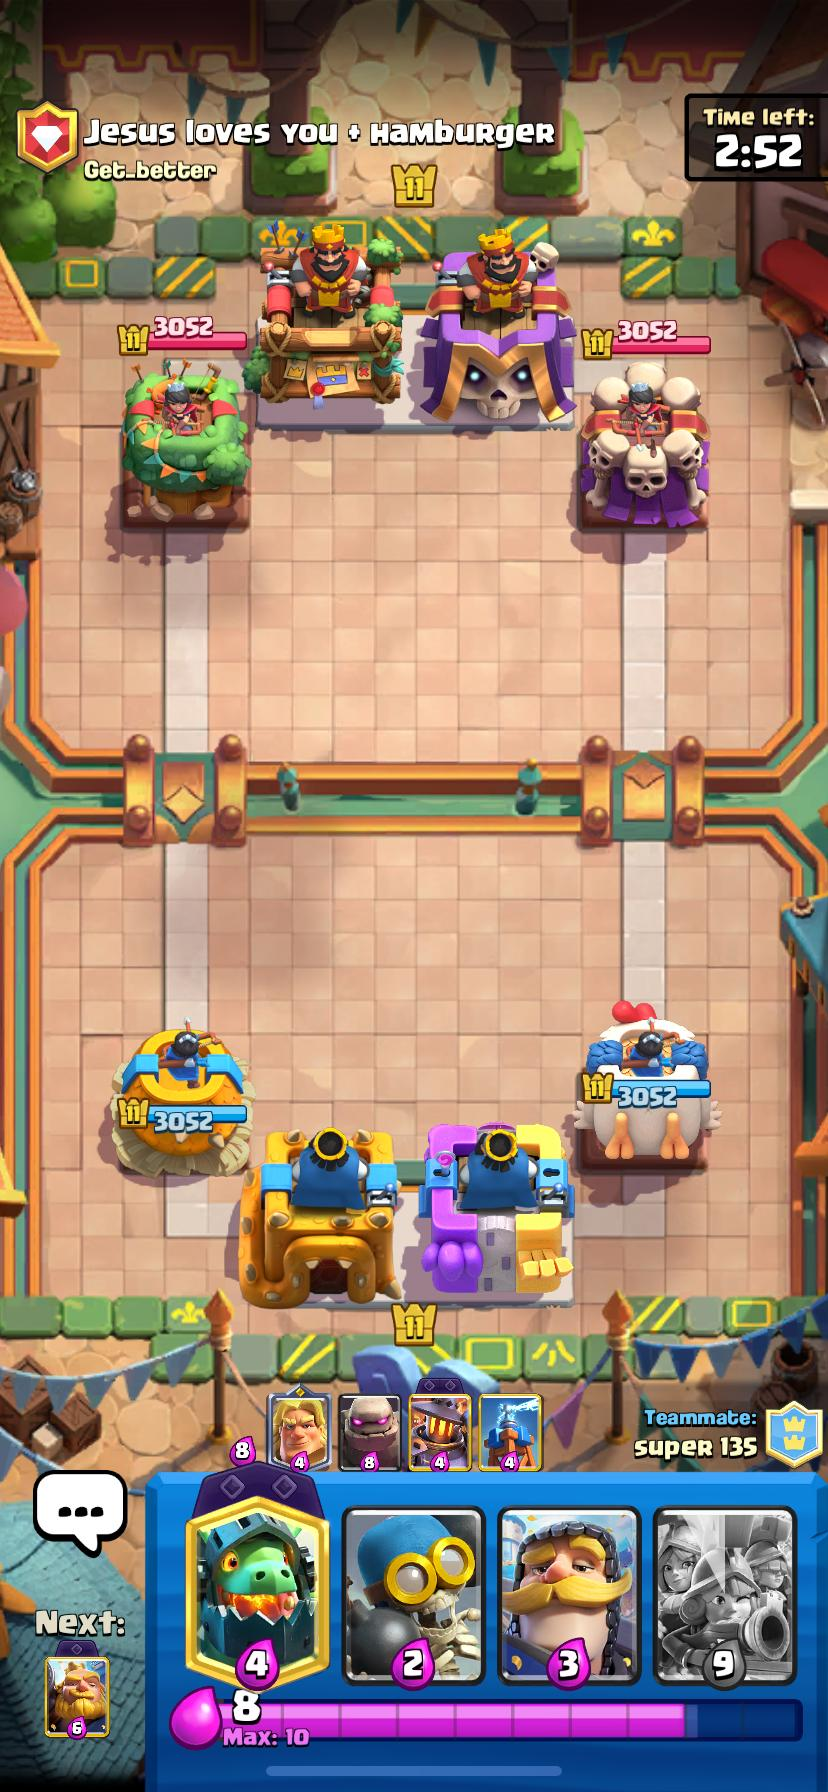EKingTower: (424, 227, 573, 421), (258, 223, 401, 405)
EnemyPrincessTower: (580, 363, 708, 528), (122, 365, 250, 522)
OwnKingTower: (419, 1123, 573, 1299), (261, 1126, 401, 1305)
OwnPrincessTower: (114, 1024, 253, 1173), (581, 1017, 710, 1161)
